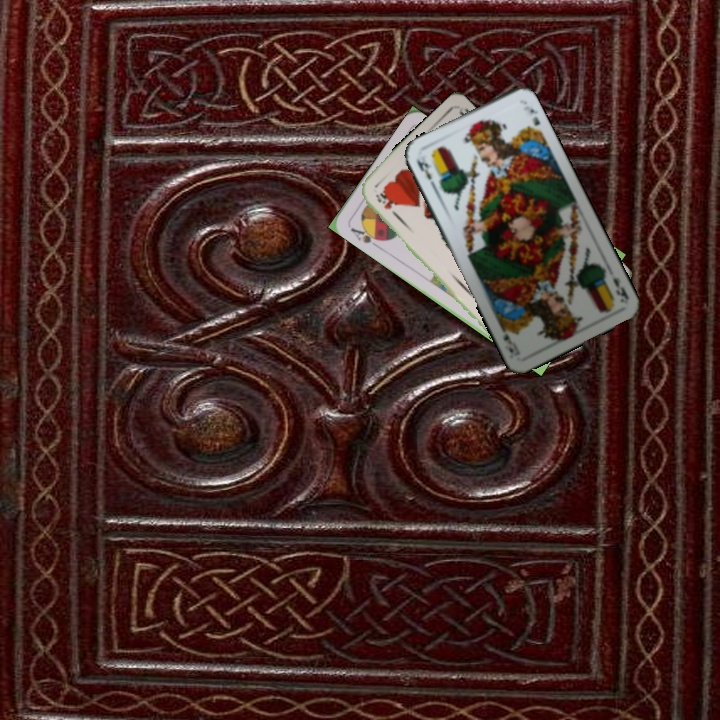EK: (412, 156, 439, 190), (609, 273, 631, 302)
HO: (371, 189, 402, 221)
SA: (346, 222, 385, 250)
